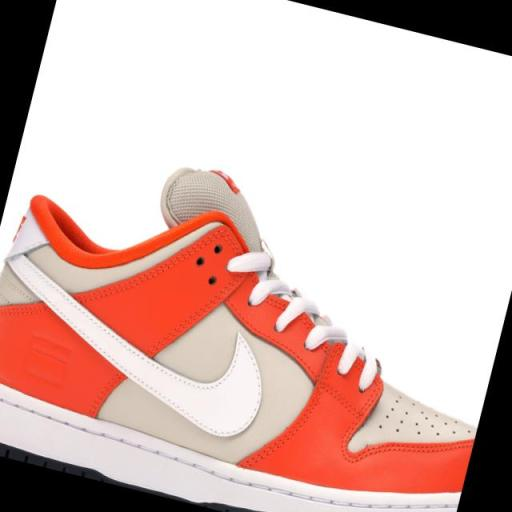Nike: (0, 258, 283, 446)
